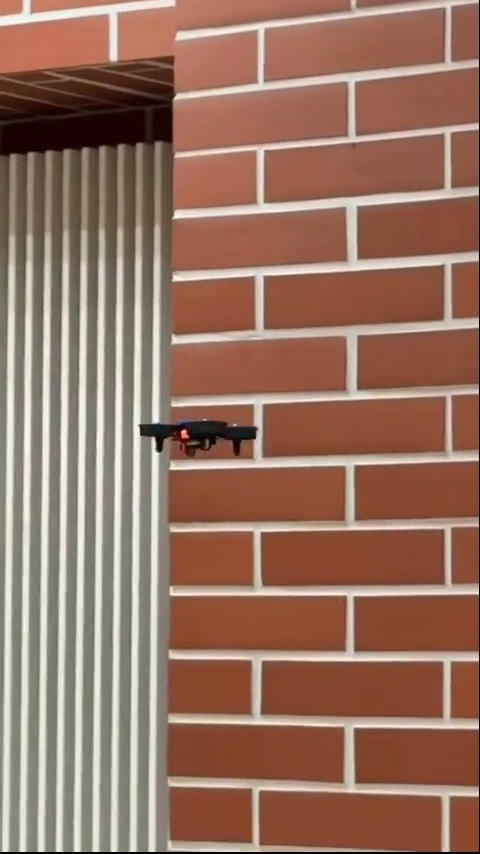drone: (138, 418, 264, 458)
